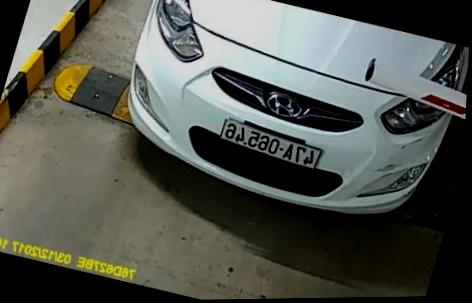License_Plate: (217, 116, 327, 183)
